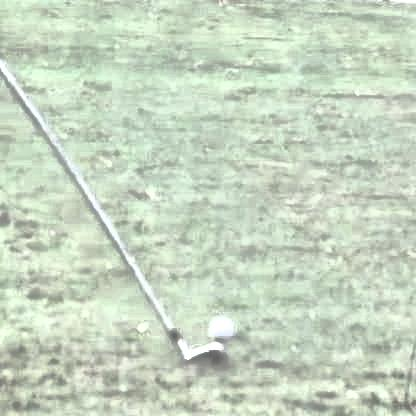golfball: (206, 315, 231, 340)
